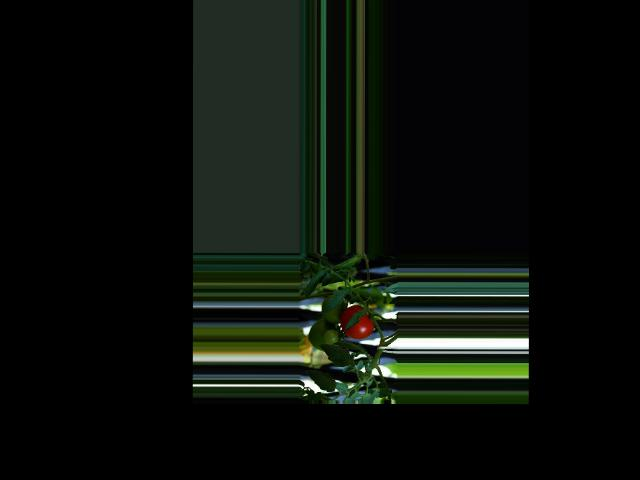tomato: (340, 305, 374, 339)
